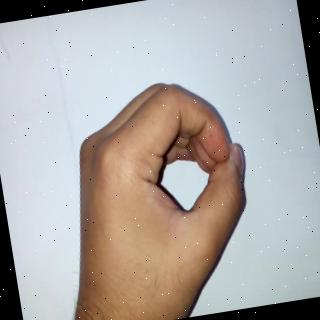O: (61, 49, 266, 318)
